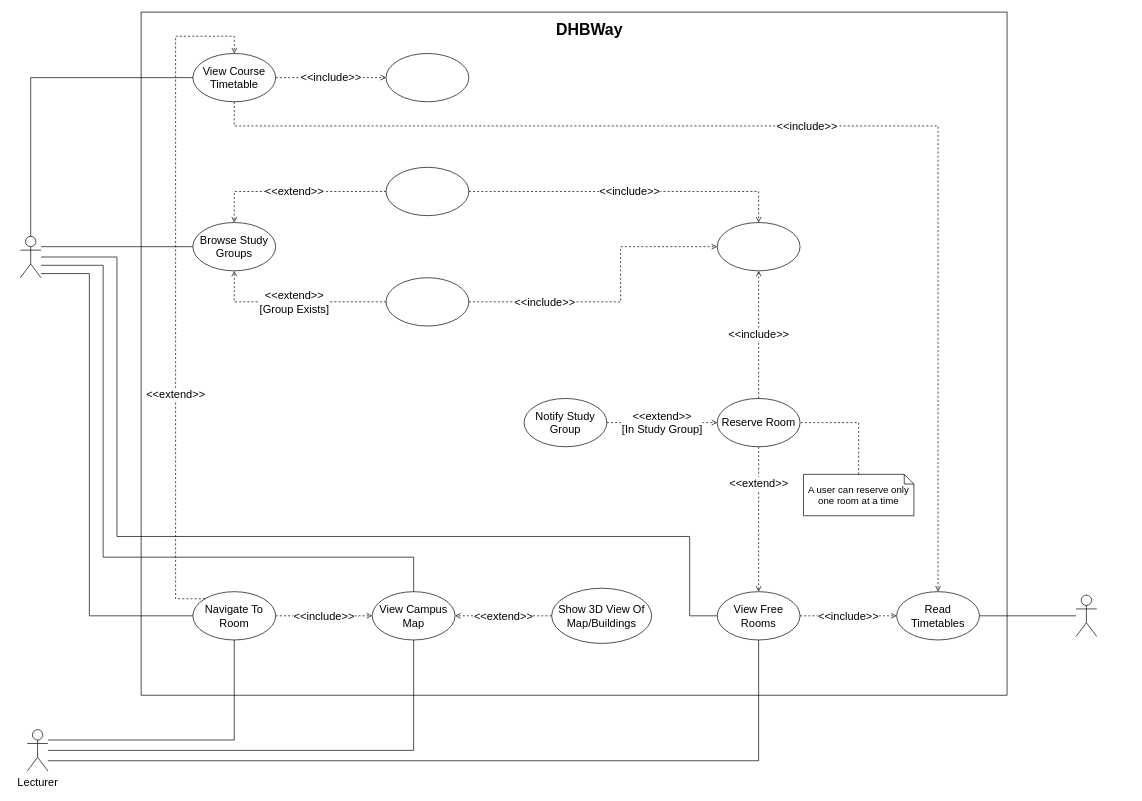
Image size: 1142x801. Some labels were removed from this diagram. The shapes that lost their labels are listed below. From the top down, each one's centre as x and y in pixels, then its label:
At (x=427, y=77): "Select Course".
At (x=427, y=191): "Create Study Group".
At (x=30, y=257): "Student".
At (x=758, y=246): "Identify User".
At (x=427, y=301): "Join Study Group".
At (x=1086, y=615): "<<system>> DHBW App/Rapla".
